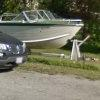Boat: (1, 2, 88, 54)
